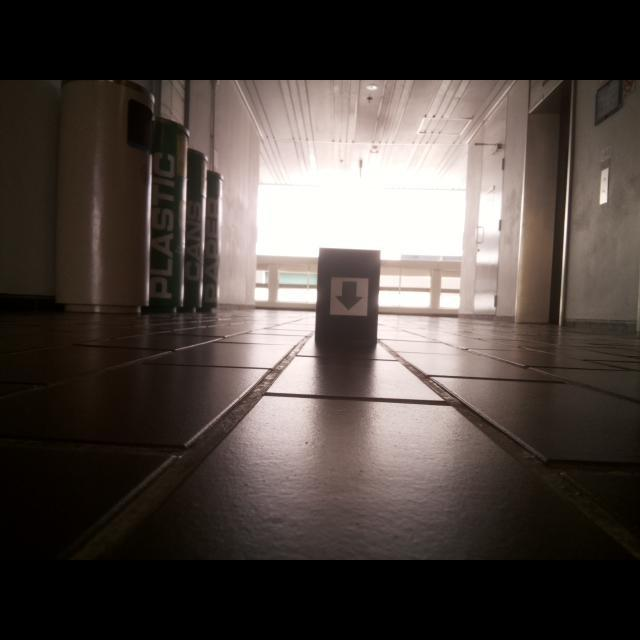DOWN: (333, 280, 364, 312)
